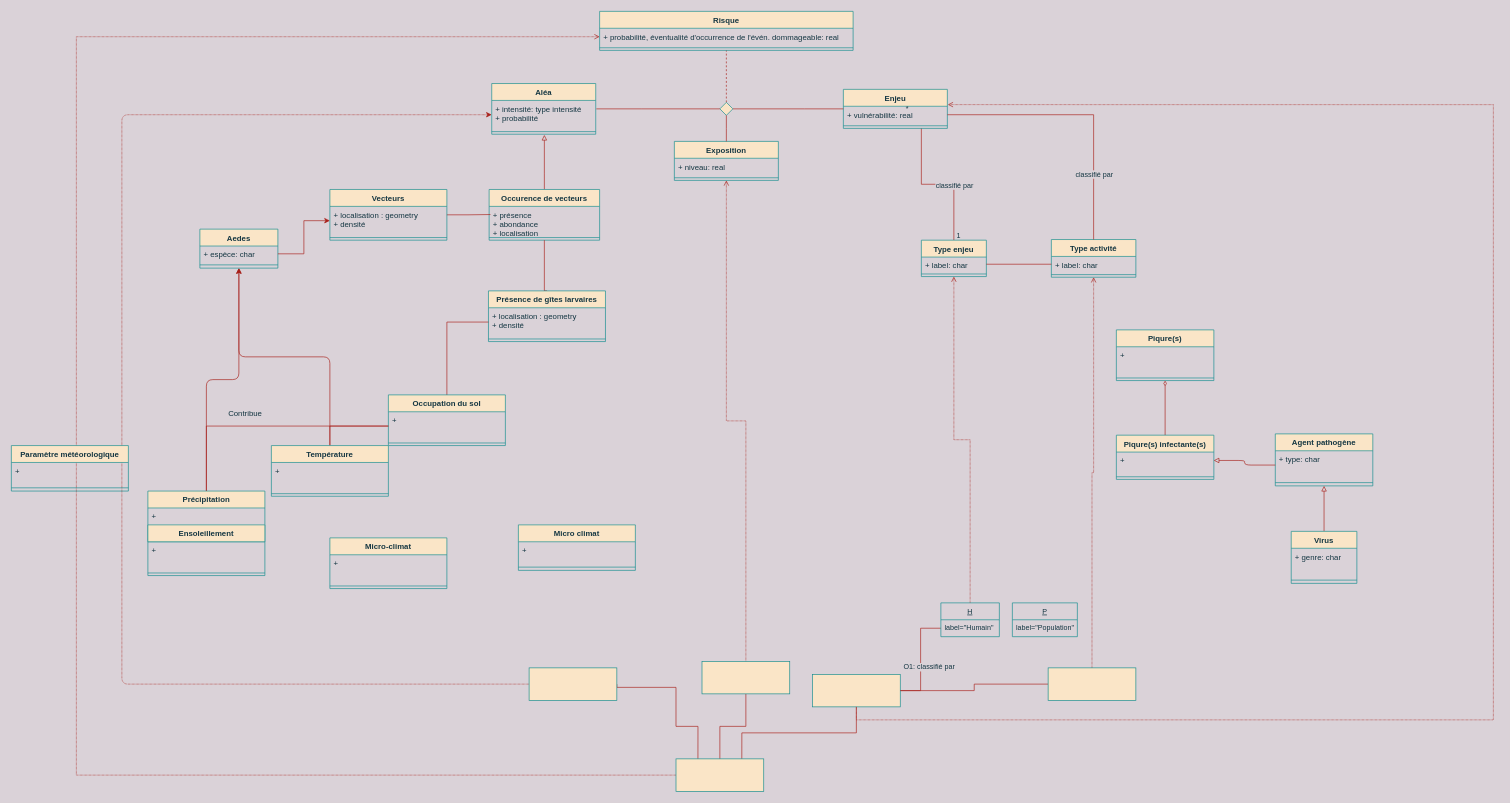
This 1510x803 diagram has some shape labels left out. The centre of each missing label's shape, as x and y in pixels:
"Chercheur" belongs at point (1091, 683).
"Jef" belongs at point (856, 690).
"Jef habite dans ce quartier" belongs at point (745, 677).
"Piqûre sur Jef" belongs at point (719, 774).
"présence de moustique dans un quartier spécifique de Cayenne" belongs at point (572, 683).
